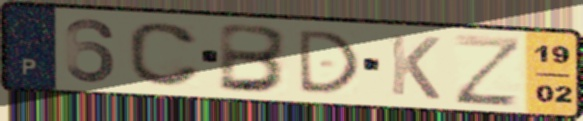6: (63, 17, 119, 85)
B: (215, 21, 293, 95)
C: (125, 20, 206, 89)
D: (295, 28, 363, 95)
K: (387, 31, 443, 103)
Z: (451, 32, 526, 109)
